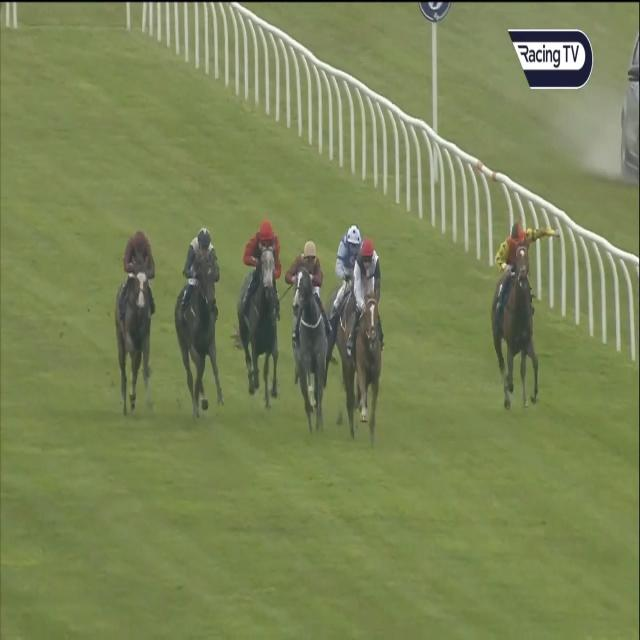horses-racing: (486, 216, 561, 407), (172, 225, 224, 414), (348, 228, 392, 443), (286, 230, 332, 435), (236, 216, 284, 404), (113, 223, 158, 423), (337, 220, 360, 362)
